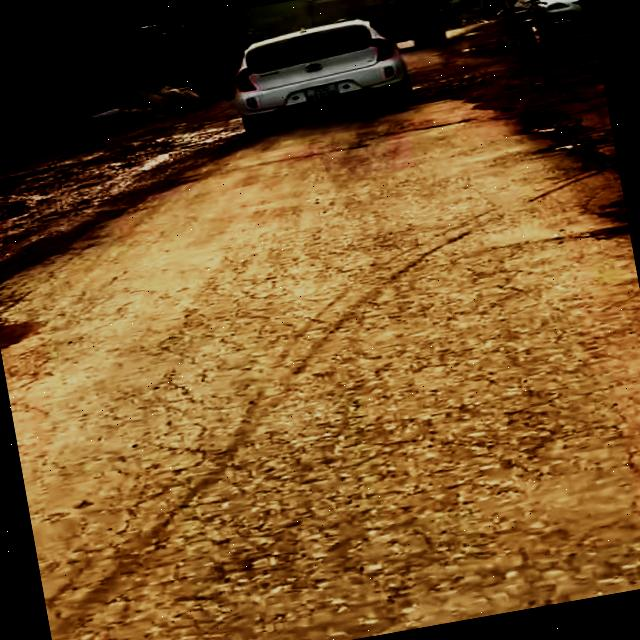pothole: (0, 309, 42, 354)
